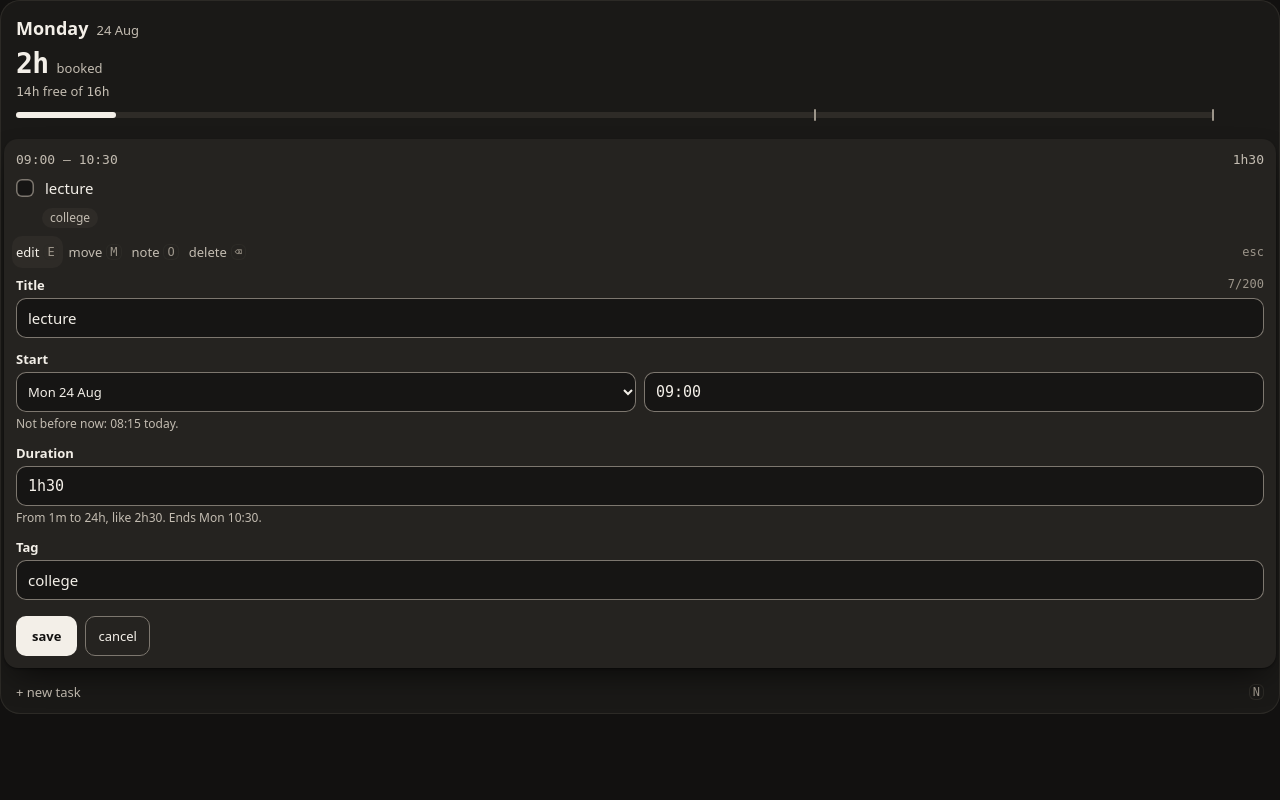
Test: the two verbs an opened row offers › saying what the start can be before it is refused › says when the task will end, as it is typed
Replace the text in the field labelled "Duration" with "16h": {"x": 640, "y": 486} [16, 466, 1264, 506]
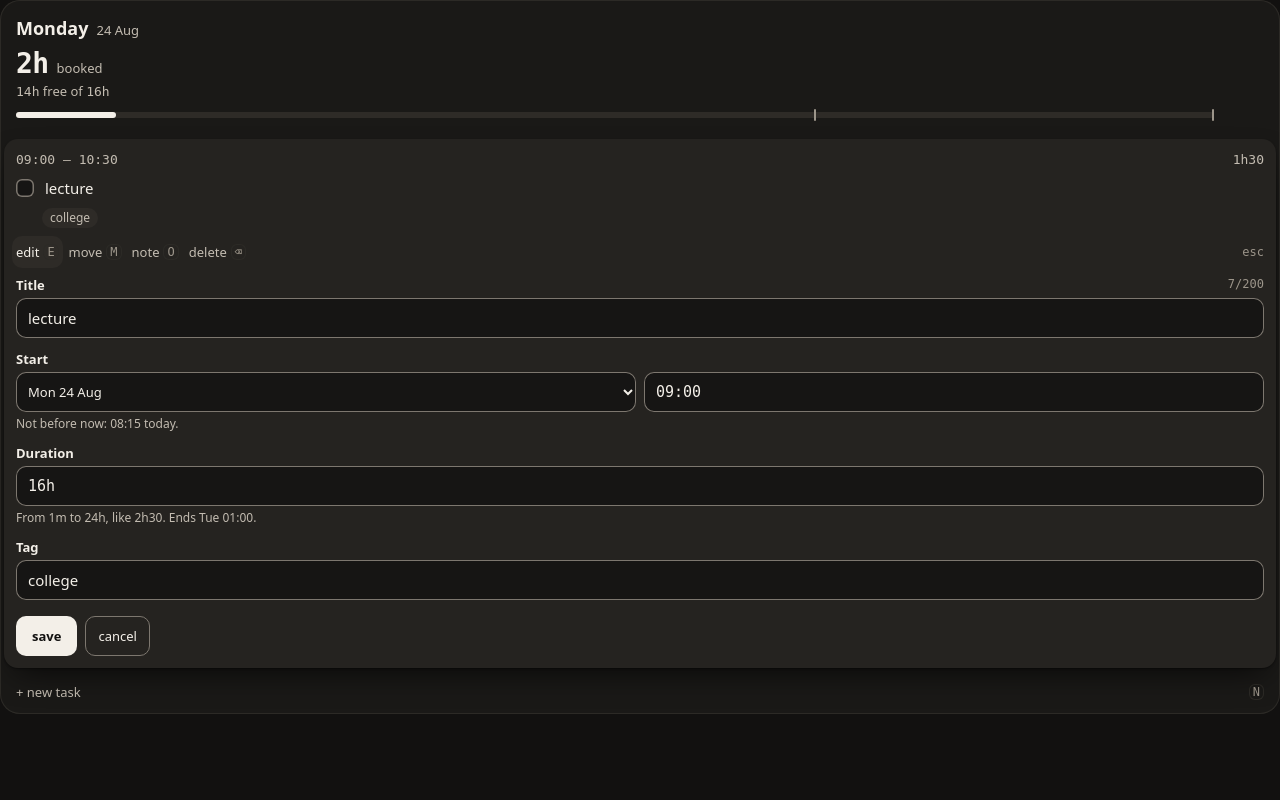
Result: the text "From 1m to 24h, like 2h30. Ends Tue 01:00." is shown at [16, 509, 256, 526]
